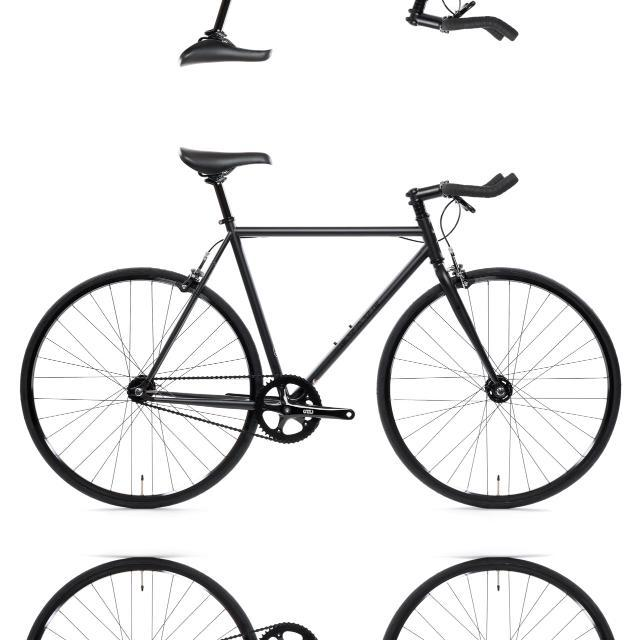obstacle: (18, 138, 632, 506), (18, 559, 632, 640), (18, 0, 632, 74)
